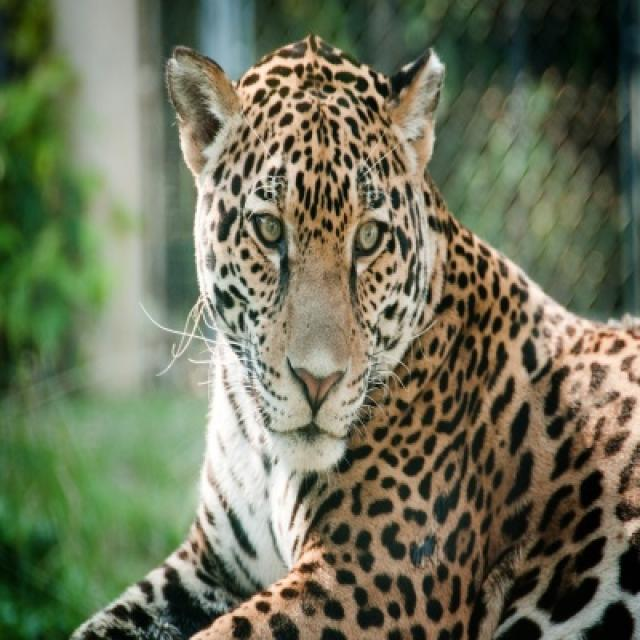Jaguar: (67, 35, 638, 638)
